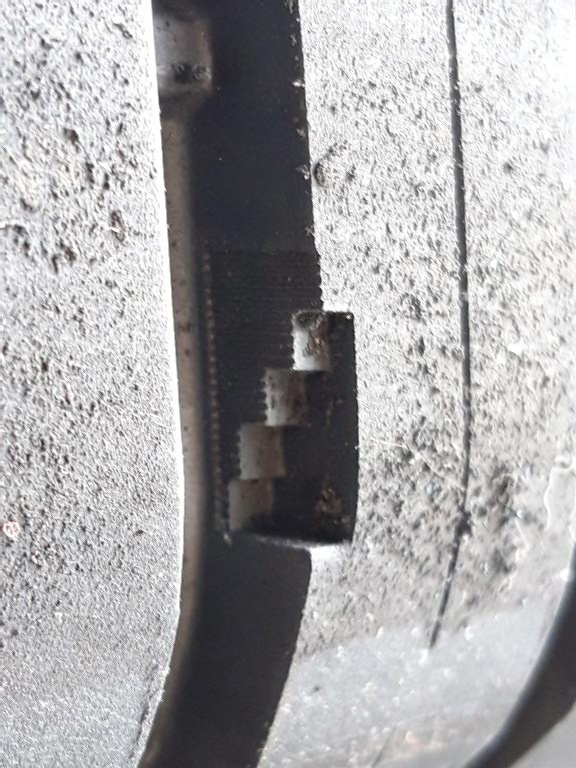temoin:95: (189, 241, 380, 566)
